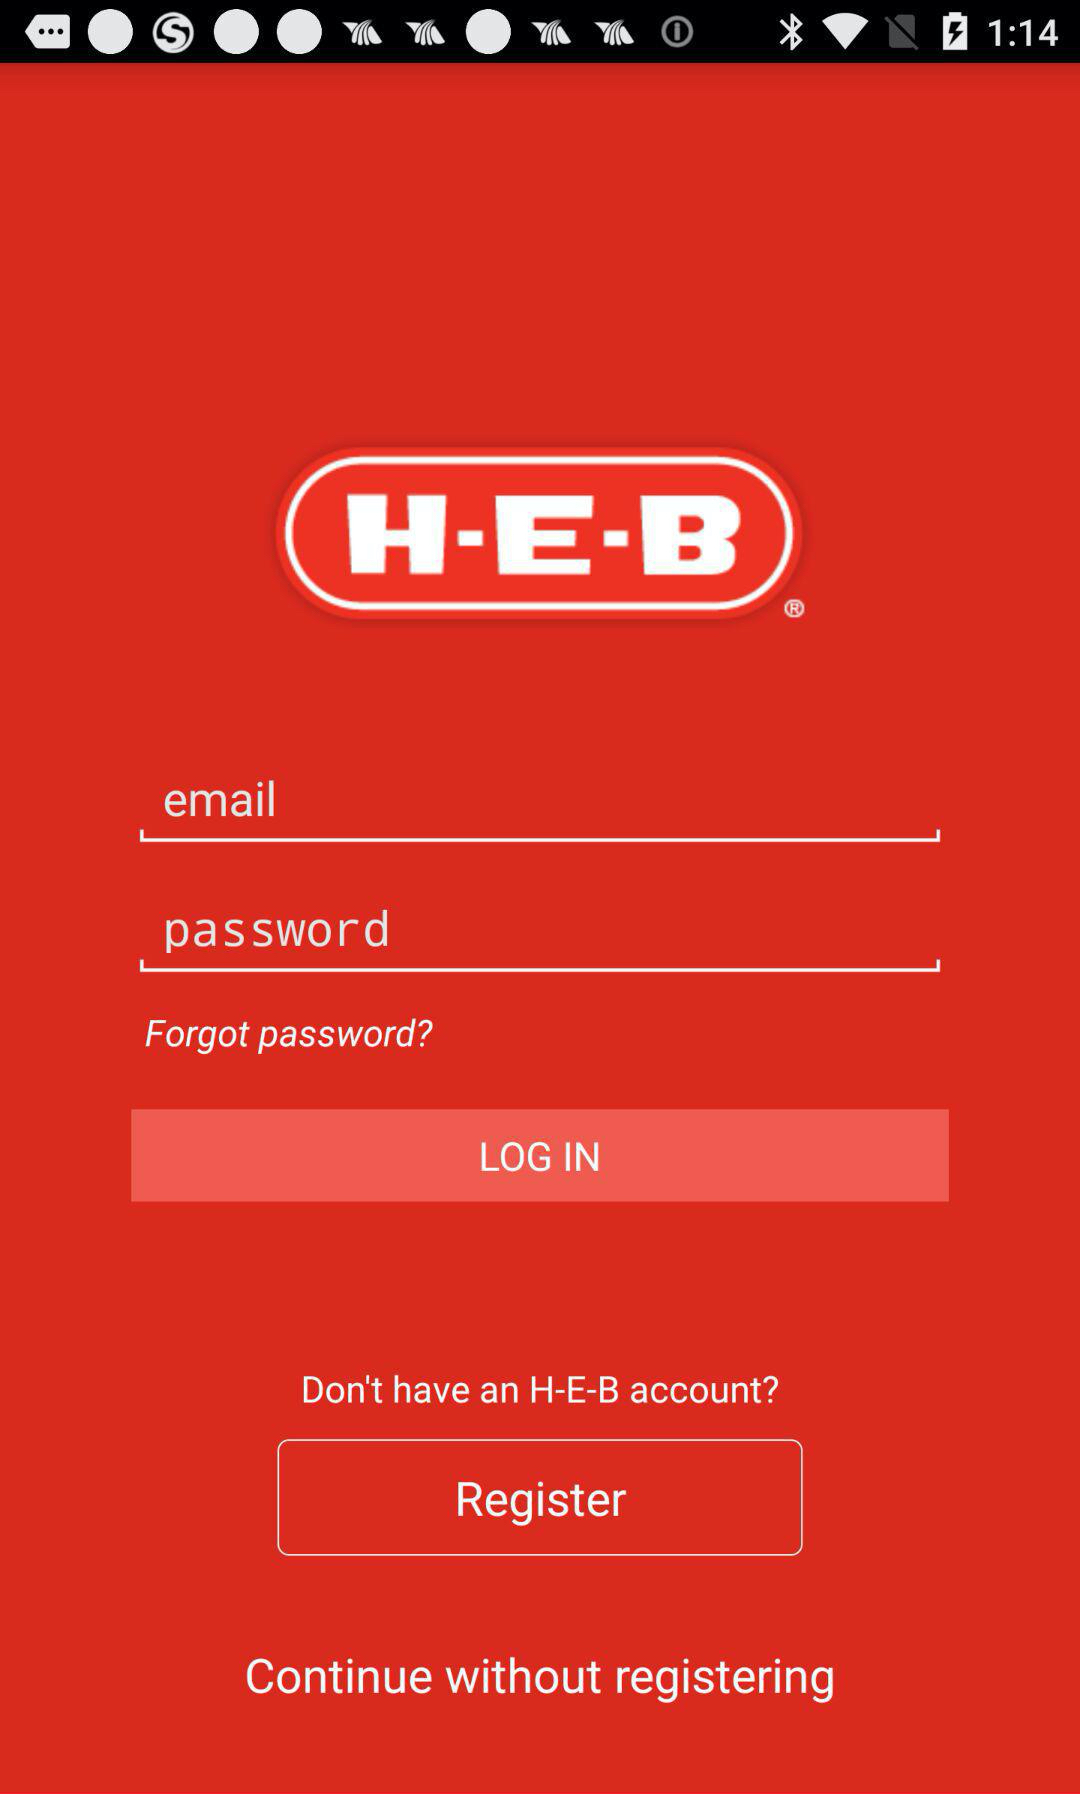EditText: (140, 779, 942, 844), (140, 909, 942, 973)
Image: (274, 446, 806, 621)
Text: (246, 1656, 835, 1706), (304, 1372, 780, 1406), (145, 1017, 436, 1056), (167, 909, 389, 959), (165, 779, 275, 818)
TextButton: (131, 1108, 949, 1203), (277, 1438, 805, 1557)
UpperTaskBar: (1, 1, 1080, 64)
